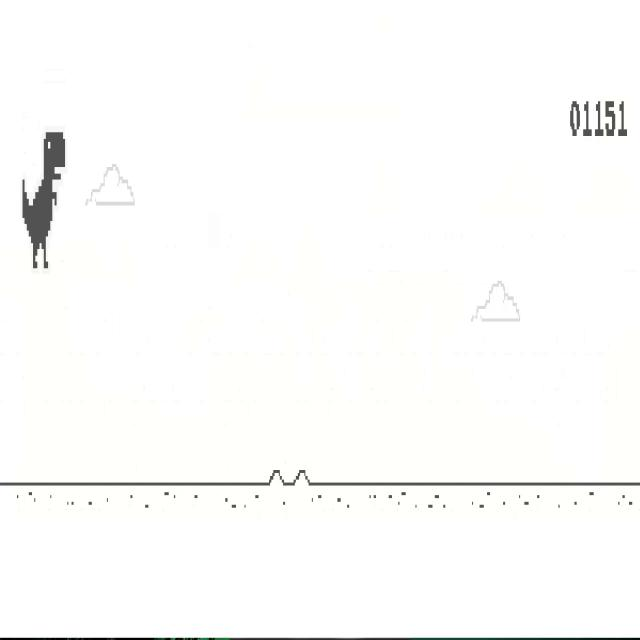dino: (21, 128, 66, 271)
